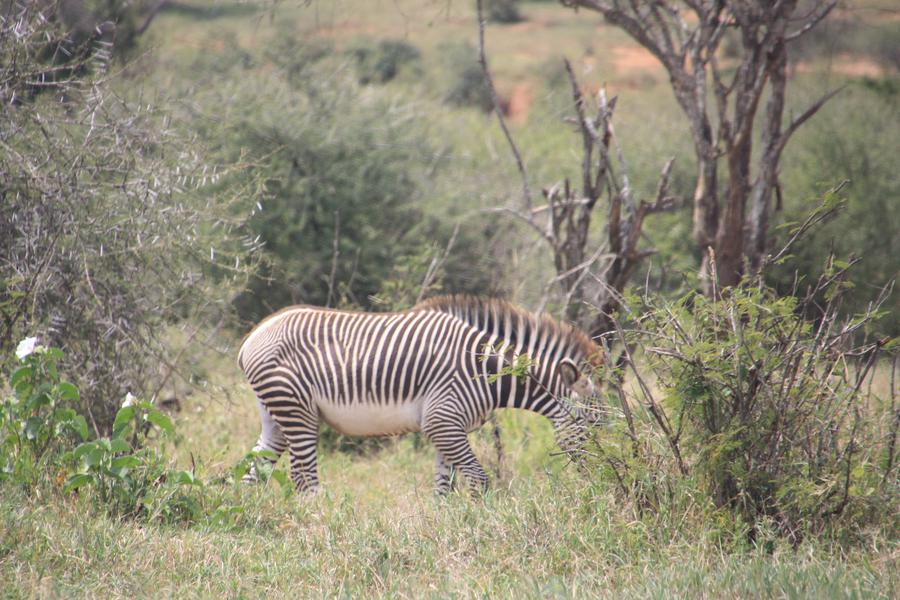zebra_grevys: (232, 298, 488, 433)
